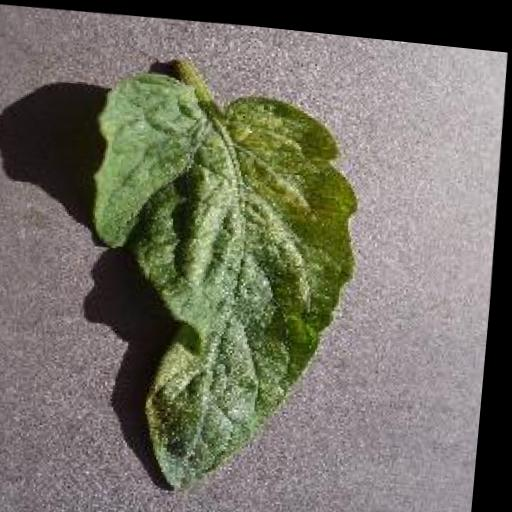Spider Mites: (76, 65, 374, 498)
